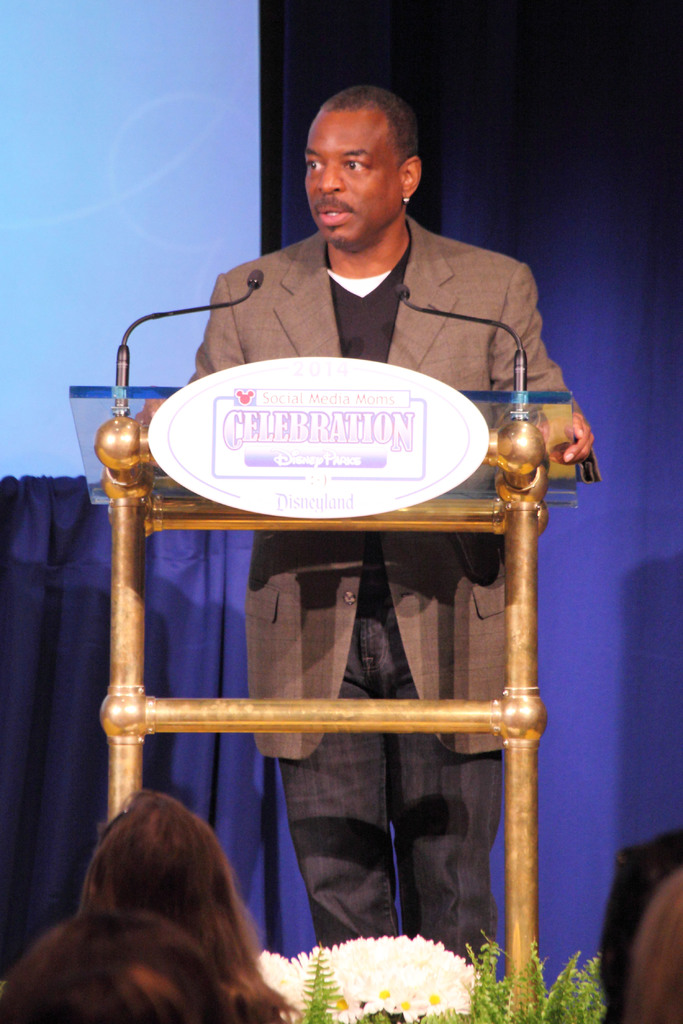Human_hand: (541, 387, 611, 480), (134, 396, 167, 423)
